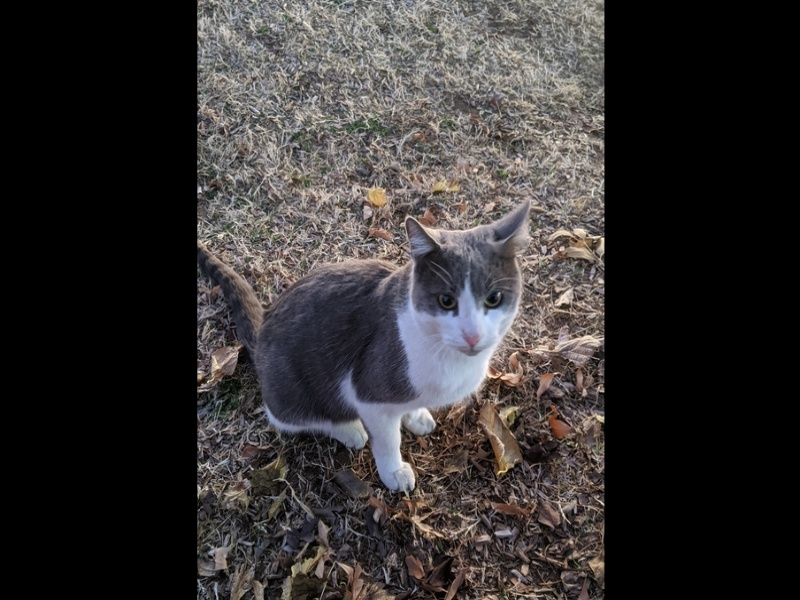cat: (200, 192, 541, 501)
